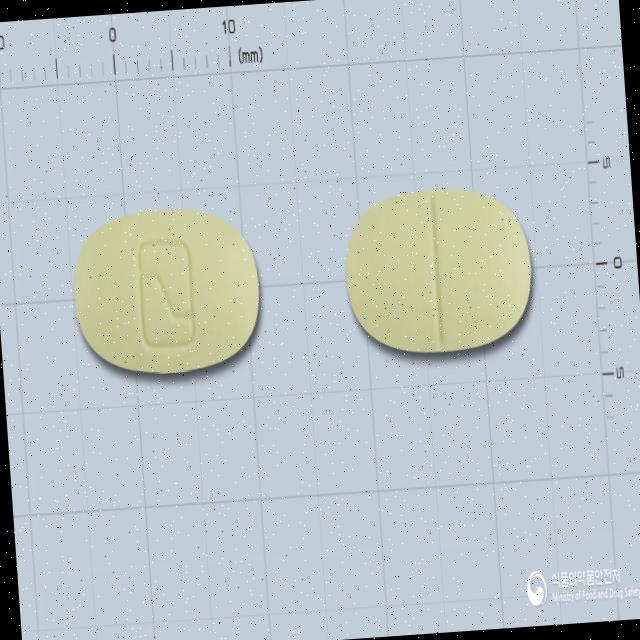Claroma Tab-500mg: (68, 196, 266, 383), (338, 180, 538, 364)
